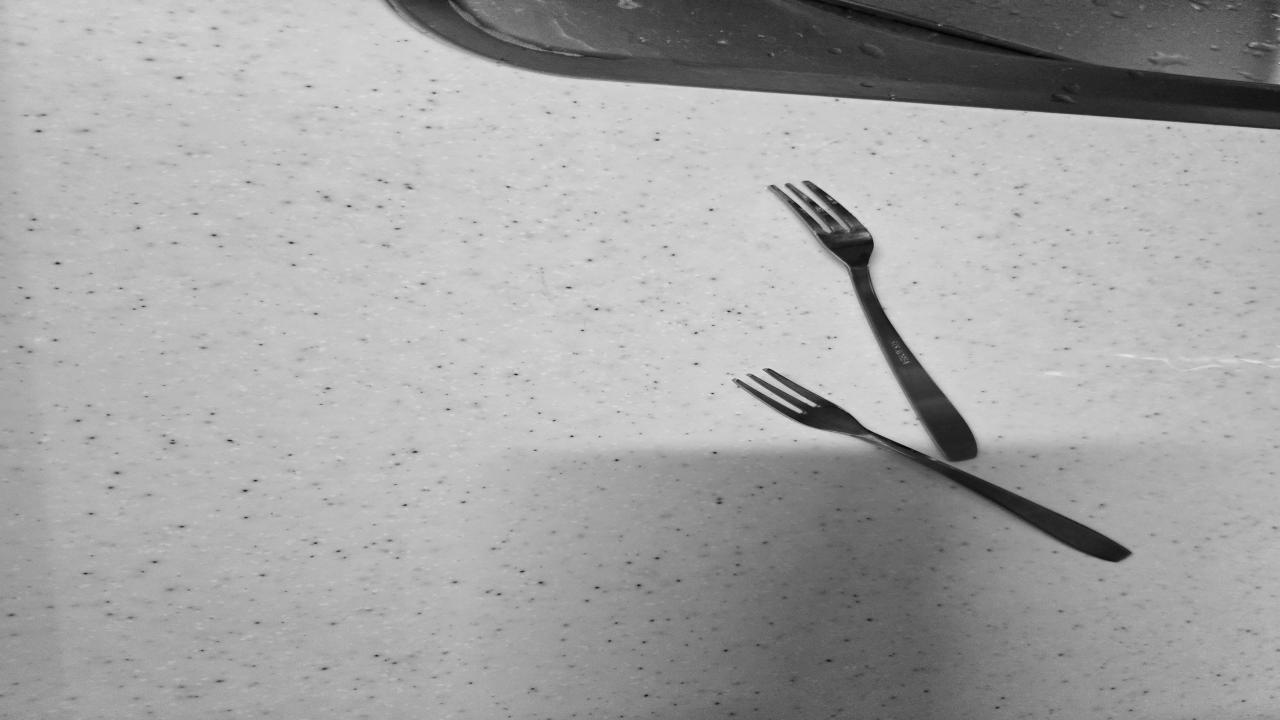fork: (729, 369, 1131, 561), (761, 179, 1002, 458)
